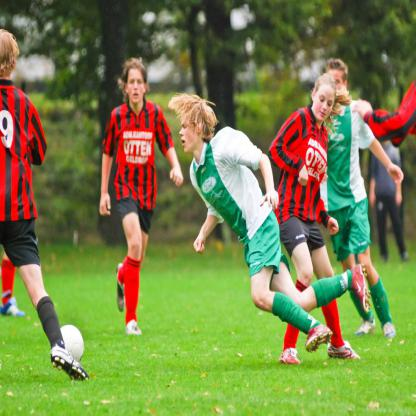face: (315, 86, 335, 122), (180, 116, 196, 153), (129, 70, 145, 104), (329, 70, 344, 99)
